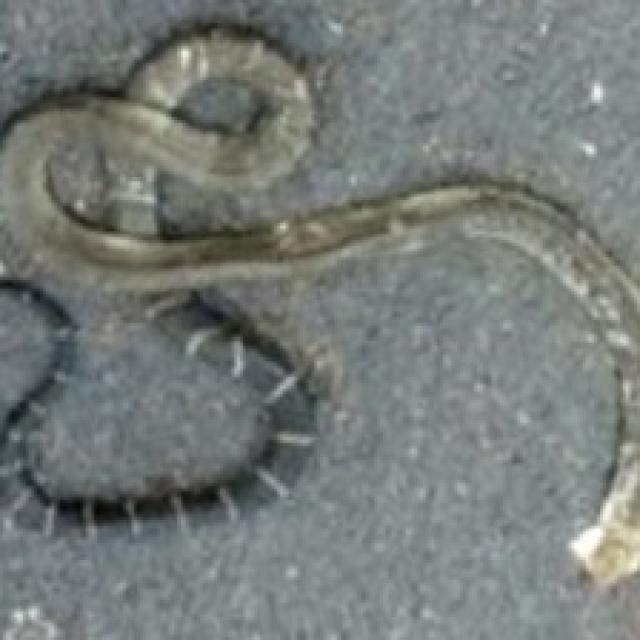king cobra: (0, 3, 637, 637), (480, 9, 557, 94)
